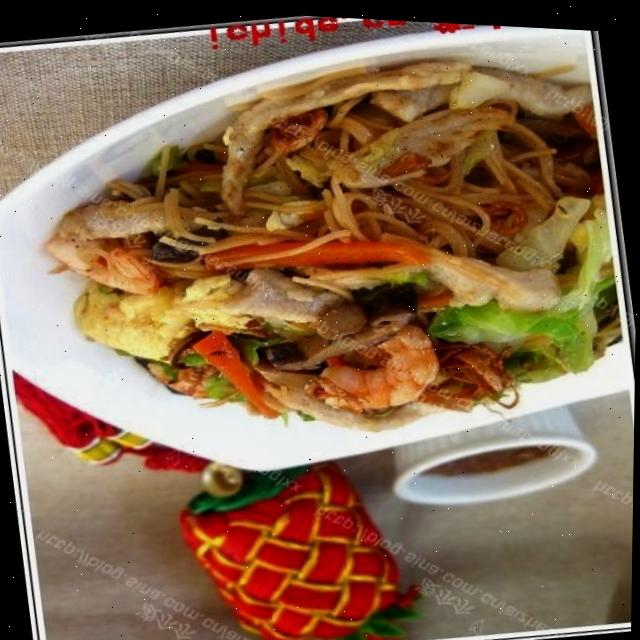面条主食: (13, 1, 640, 542)
